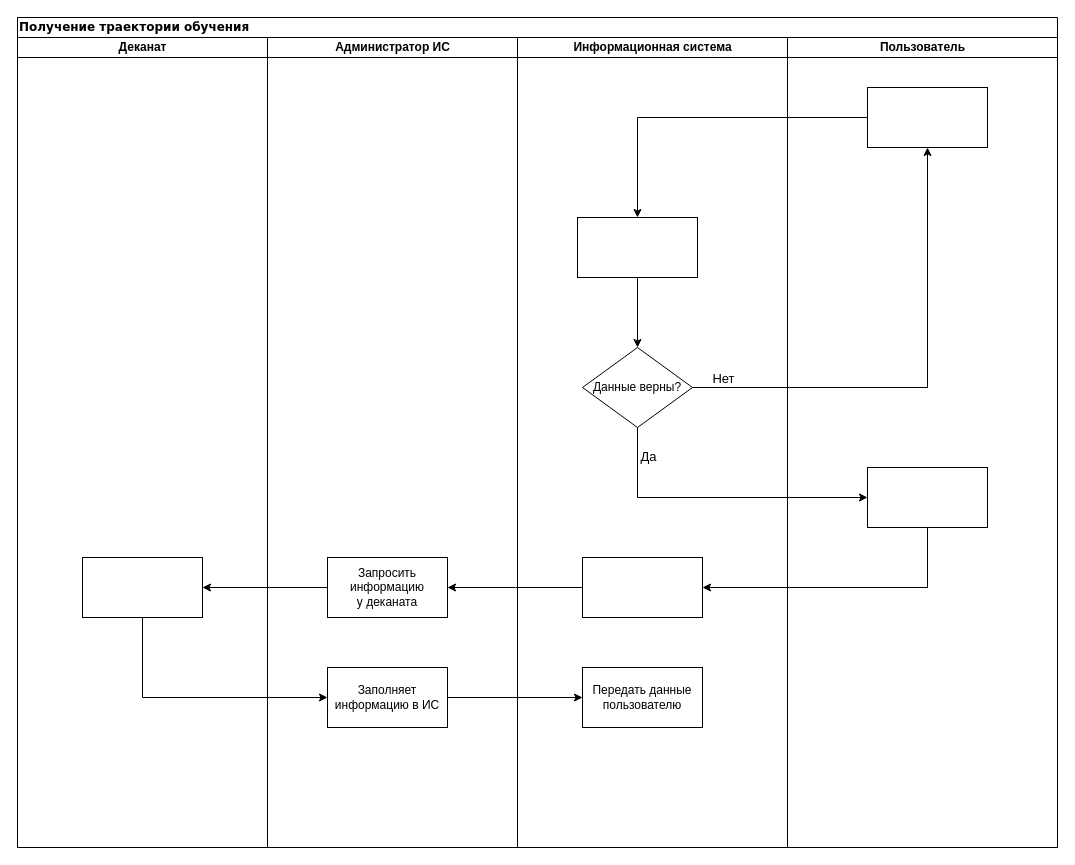
This 1075x865 diagram has some shape labels left out. Each missing label, with the centre of its shape:
Войти в личный кабинет: (x=927, y=117)
Запросить информацию об успеваемости студента: (x=642, y=587)
Обновляет информацию о студентах: (x=142, y=587)
Сверить данные входа: (x=637, y=247)
Узнать траекторию обучения: (x=927, y=497)
